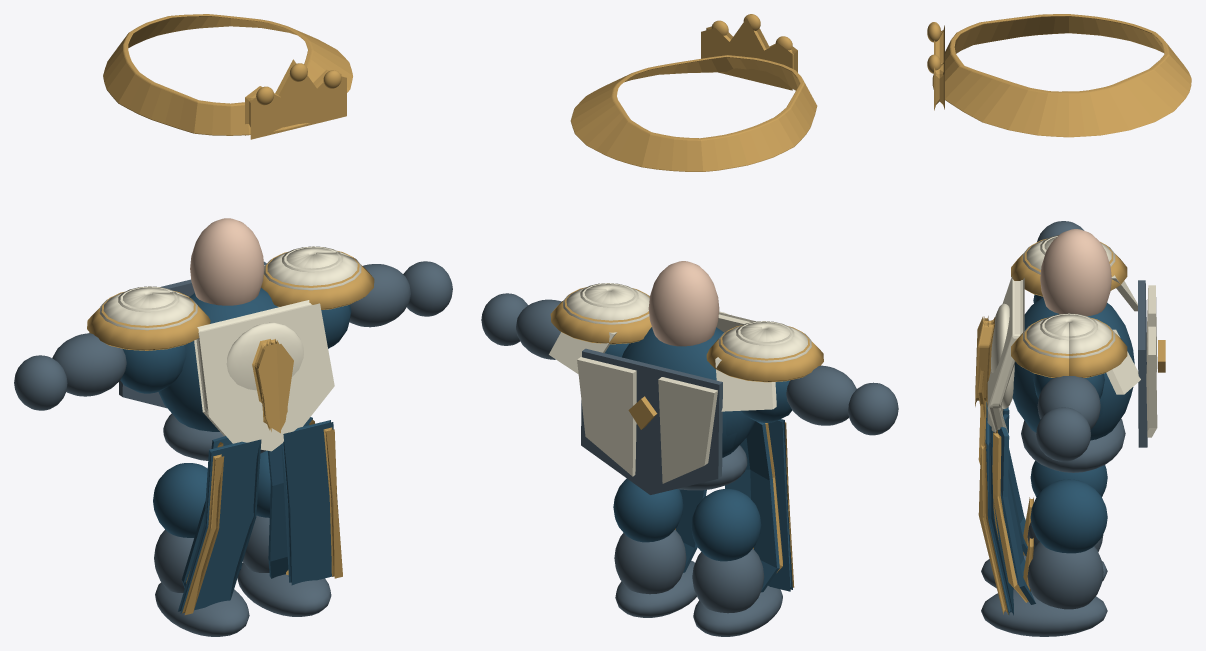
Rendered from knight-v3.glb.
3 views of the same model, side by side, from view 1: azimuth 30°, elevation 25°; view 2: azimuth 150°, elevation 25°; view 3: azimuth 270°, elevation 25° (orthographic). The views are drawn at different scales.
Visible parts, largest first — view 1: TLL_head, TLL_chest, Oath cuirass, Split navy coat.001, Split navy coat, TLL_hips, TLL_lowerarmr, TLL_upperlegr, TLL_footl, Curved shoulder lame -1 2, TLL_footr, TLL_lowerarml (+17 smaller); view 2: TLL_head, TLL_chest, Jade Knight dorsal shadow seam, TLL_hips, Jade Knight split oath crest 1, Jade Knight split oath crest -1, TLL_upperlegr, TLL_lowerlegl, TLL_lowerlegr, TLL_upperlegl, TLL_lowerarmr, Curved shoulder lame -1 2 (+14 smaller); view 3: TLL_head, TLL_chest, TLL_hips, TLL_upperlegl, TLL_lowerlegl, TLL_footl, Curved shoulder lame 1 2, Oath cuirass, TLL_handl, Curved shoulder lame 1 1, TLL_lowerarml, Jade Knight dorsal shadow seam (+13 smaller).
Part boxes in pixels (box(x1,y1,x2,y2)): TLL_head: box(103, 14, 352, 139); TLL_chest: box(158, 218, 303, 431); Oath cuirass: box(194, 300, 334, 451); Split navy coat.001: box(281, 420, 333, 585); Split navy coat: box(178, 439, 261, 613); TLL_hips: box(163, 413, 314, 588); TLL_lowerarmr: box(52, 333, 126, 396); TLL_upperlegr: box(153, 463, 207, 537); TLL_footl: box(237, 562, 331, 616); Curved shoulder lame -1 2: box(87, 290, 210, 350); TLL_footr: box(155, 582, 249, 636); TLL_lowerarml: box(349, 264, 410, 327); TLL_head: box(570, 14, 817, 171); TLL_chest: box(622, 261, 755, 457); Jade Knight dorsal shadow seam: box(581, 348, 722, 494); TLL_hips: box(676, 421, 782, 592); Jade Knight split oath crest 1: box(577, 357, 636, 476); Jade Knight split oath crest -1: box(658, 377, 717, 483); TLL_upperlegr: box(691, 489, 761, 561); TLL_lowerlegl: box(614, 528, 686, 594); TLL_lowerlegr: box(692, 547, 764, 613); TLL_upperlegl: box(613, 478, 683, 542); TLL_lowerarmr: box(786, 365, 856, 425); Curved shoulder lame -1 2: box(706, 325, 823, 382); TLL_head: box(927, 14, 1191, 137); TLL_chest: box(978, 229, 1134, 440); TLL_hips: box(992, 407, 1125, 604); TLL_upperlegl: box(1030, 479, 1107, 553); TLL_lowerlegl: box(1023, 537, 1103, 609); TLL_footl: box(981, 588, 1107, 636); Curved shoulder lame 1 2: box(1011, 317, 1127, 377); Oath cuirass: box(987, 276, 1024, 432); TLL_handl: box(1036, 407, 1090, 461); Curved shoulder lame 1 1: box(1023, 313, 1115, 358); TLL_lowerarml: box(1037, 376, 1100, 429); Jade Knight dorsal shadow seam: box(1138, 280, 1147, 447).
Size of the model in its own units: 1.79 by 2.35 by 0.9599.
